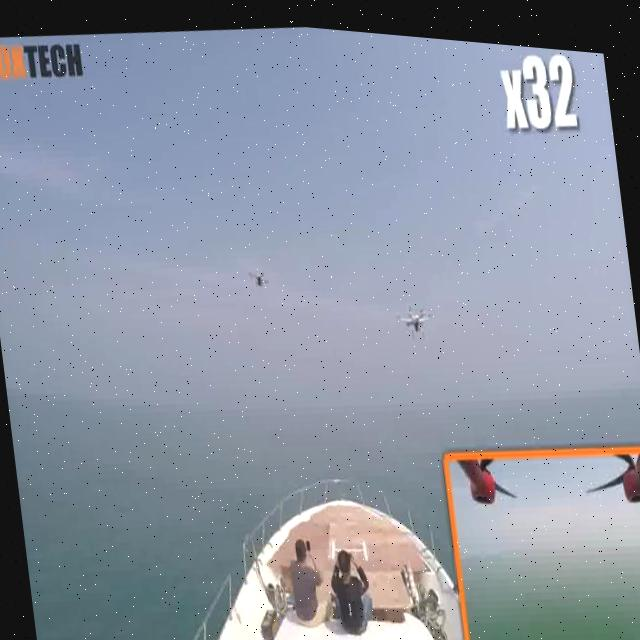drone: (392, 282, 442, 339), (240, 252, 278, 292)
